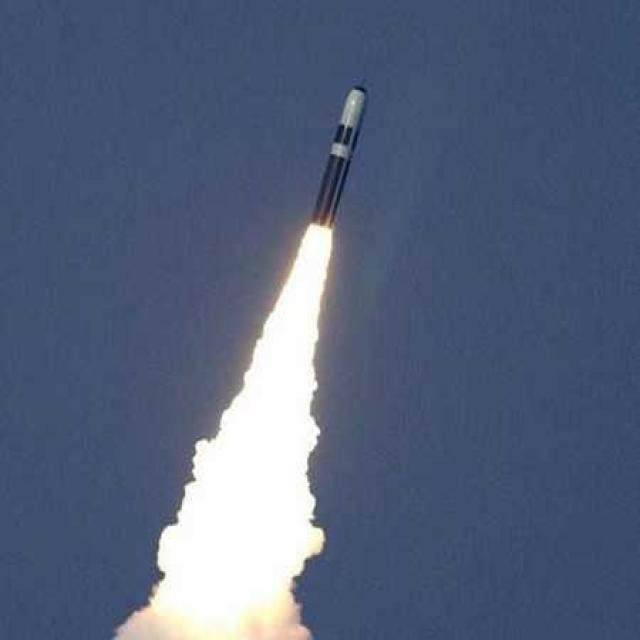missile: (307, 80, 370, 230)
